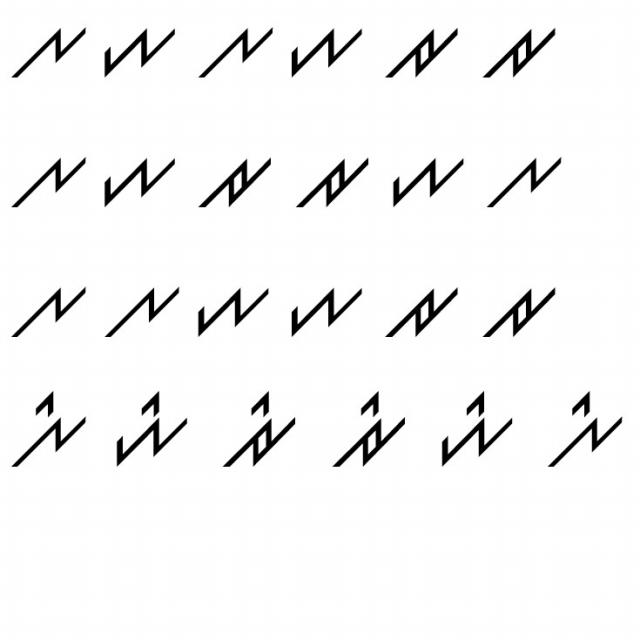la: (478, 142, 570, 212), (8, 272, 93, 346), (11, 17, 92, 92), (4, 148, 88, 217), (101, 275, 183, 345), (194, 22, 277, 79)
li: (539, 385, 625, 473), (10, 388, 90, 470)
ra: (471, 272, 566, 344), (379, 13, 463, 88), (191, 147, 276, 217), (377, 274, 460, 343), (293, 151, 376, 215), (482, 22, 564, 82)
ri: (325, 387, 411, 473), (216, 389, 298, 479)
ya: (280, 273, 370, 342), (191, 266, 270, 344), (283, 20, 366, 90), (388, 152, 471, 218), (98, 19, 182, 83), (98, 150, 180, 214)
yi: (429, 388, 514, 479), (104, 389, 193, 470)
